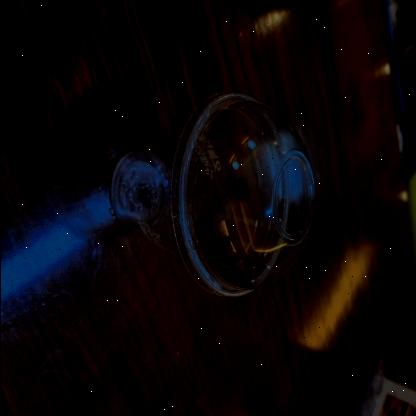Others: (174, 88, 320, 298)
